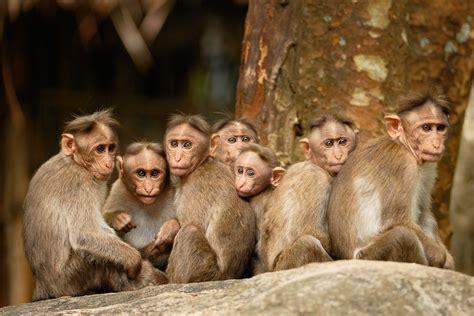monkey: (330, 92, 461, 270), (23, 109, 141, 296), (161, 113, 258, 283), (257, 115, 361, 272), (104, 142, 172, 249), (233, 146, 285, 273), (207, 120, 260, 164)
